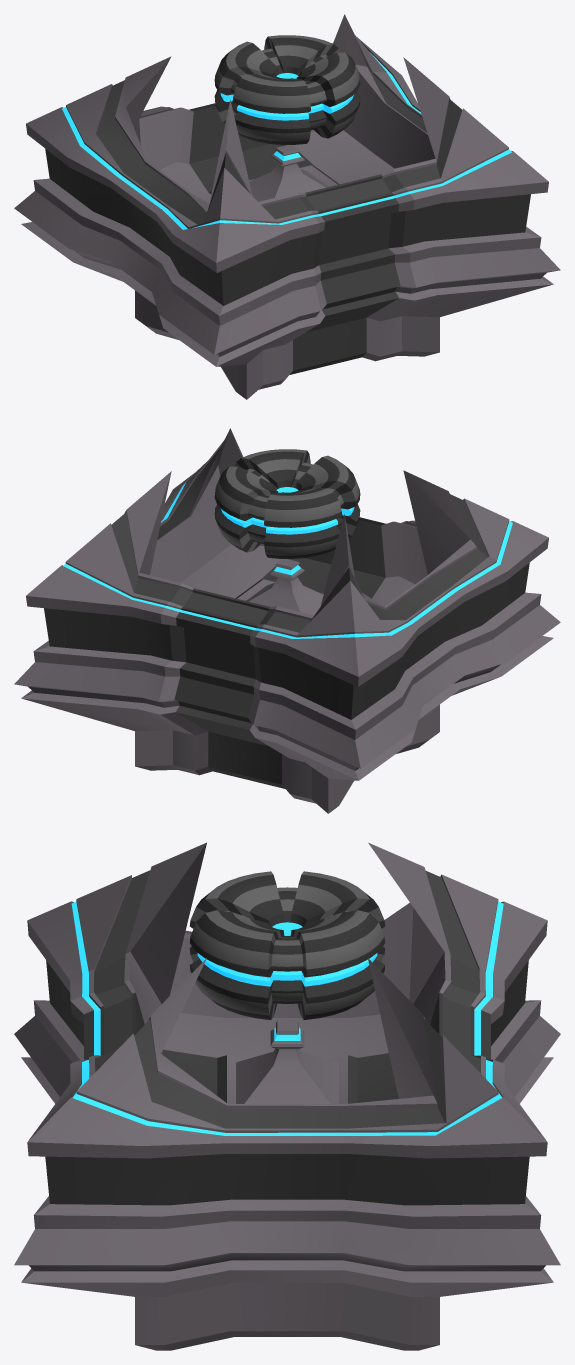
File: Weird_Science_Thing.fbx
The picture shows the model from 3 angles, top to bottom: view 1: azimuth 30°, elevation 25°; view 2: azimuth 150°, elevation 25°; view 3: azimuth 270°, elevation 25°; orthographic projection. The views are drawn at different scales.
Visible parts, largest first — view 1: Cube, Sphere; view 2: Cube, Sphere; view 3: Cube, Sphere.
Boxes of the visible parts, left/top/right/bottom form: Cube: left=14, top=14, right=560, bottom=399; Sphere: left=214, top=35, right=360, bottom=144; Cube: left=14, top=428, right=560, bottom=813; Sphere: left=214, top=449, right=360, bottom=558; Cube: left=14, top=842, right=560, bottom=1350; Sphere: left=189, top=871, right=385, bottom=1019.
Bounding box in the file's own units: 359 × 283 × 358.
